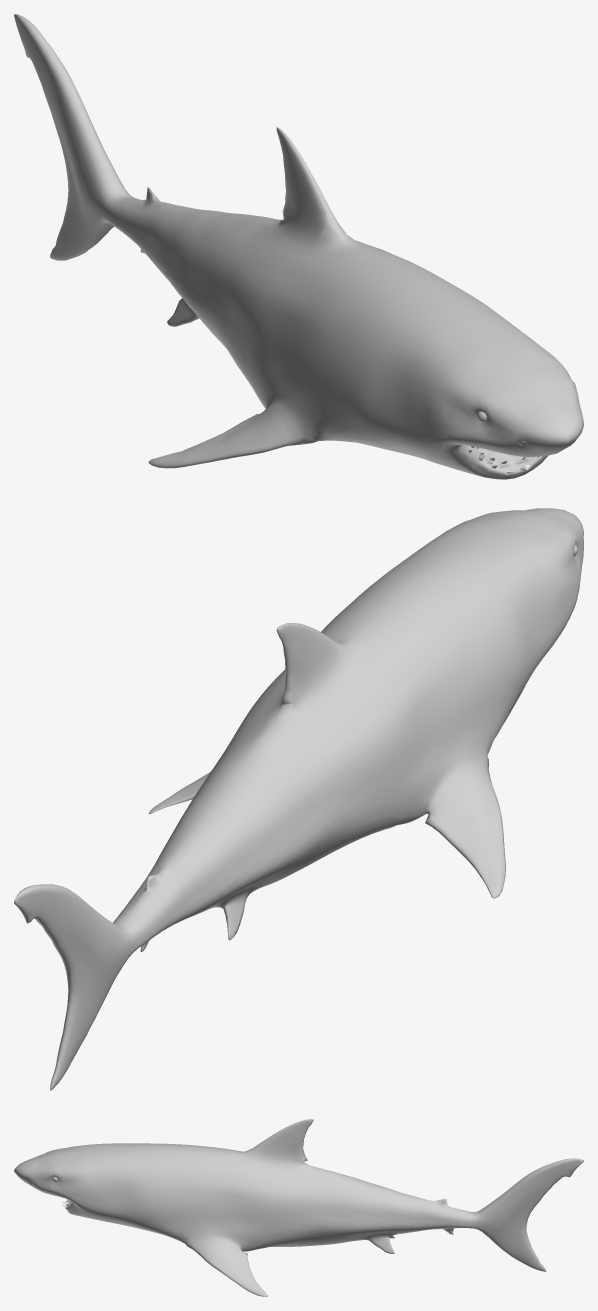
File: GreatWhiteShark_MeshOnly.obj
3 views of the same model, one above another, from view 1: azimuth 30°, elevation 25°; view 2: azimuth 150°, elevation 25°; view 3: azimuth 270°, elevation 25° (orthographic). The views are drawn at different scales.
Visible parts, largest first — view 1: GreatWhiteShark_Body_Shark_LowPoly.002; view 2: GreatWhiteShark_Body_Shark_LowPoly.002; view 3: GreatWhiteShark_Body_Shark_LowPoly.002.
Boxes of the visible parts, x1,y1,x2,y2 form: GreatWhiteShark_Body_Shark_LowPoly.002: (14, 14, 583, 479); GreatWhiteShark_Body_Shark_LowPoly.002: (14, 508, 583, 1090); GreatWhiteShark_Body_Shark_LowPoly.002: (14, 1119, 583, 1296).
Size of the model in its own units: 11.57 by 9.43 by 31.9.
